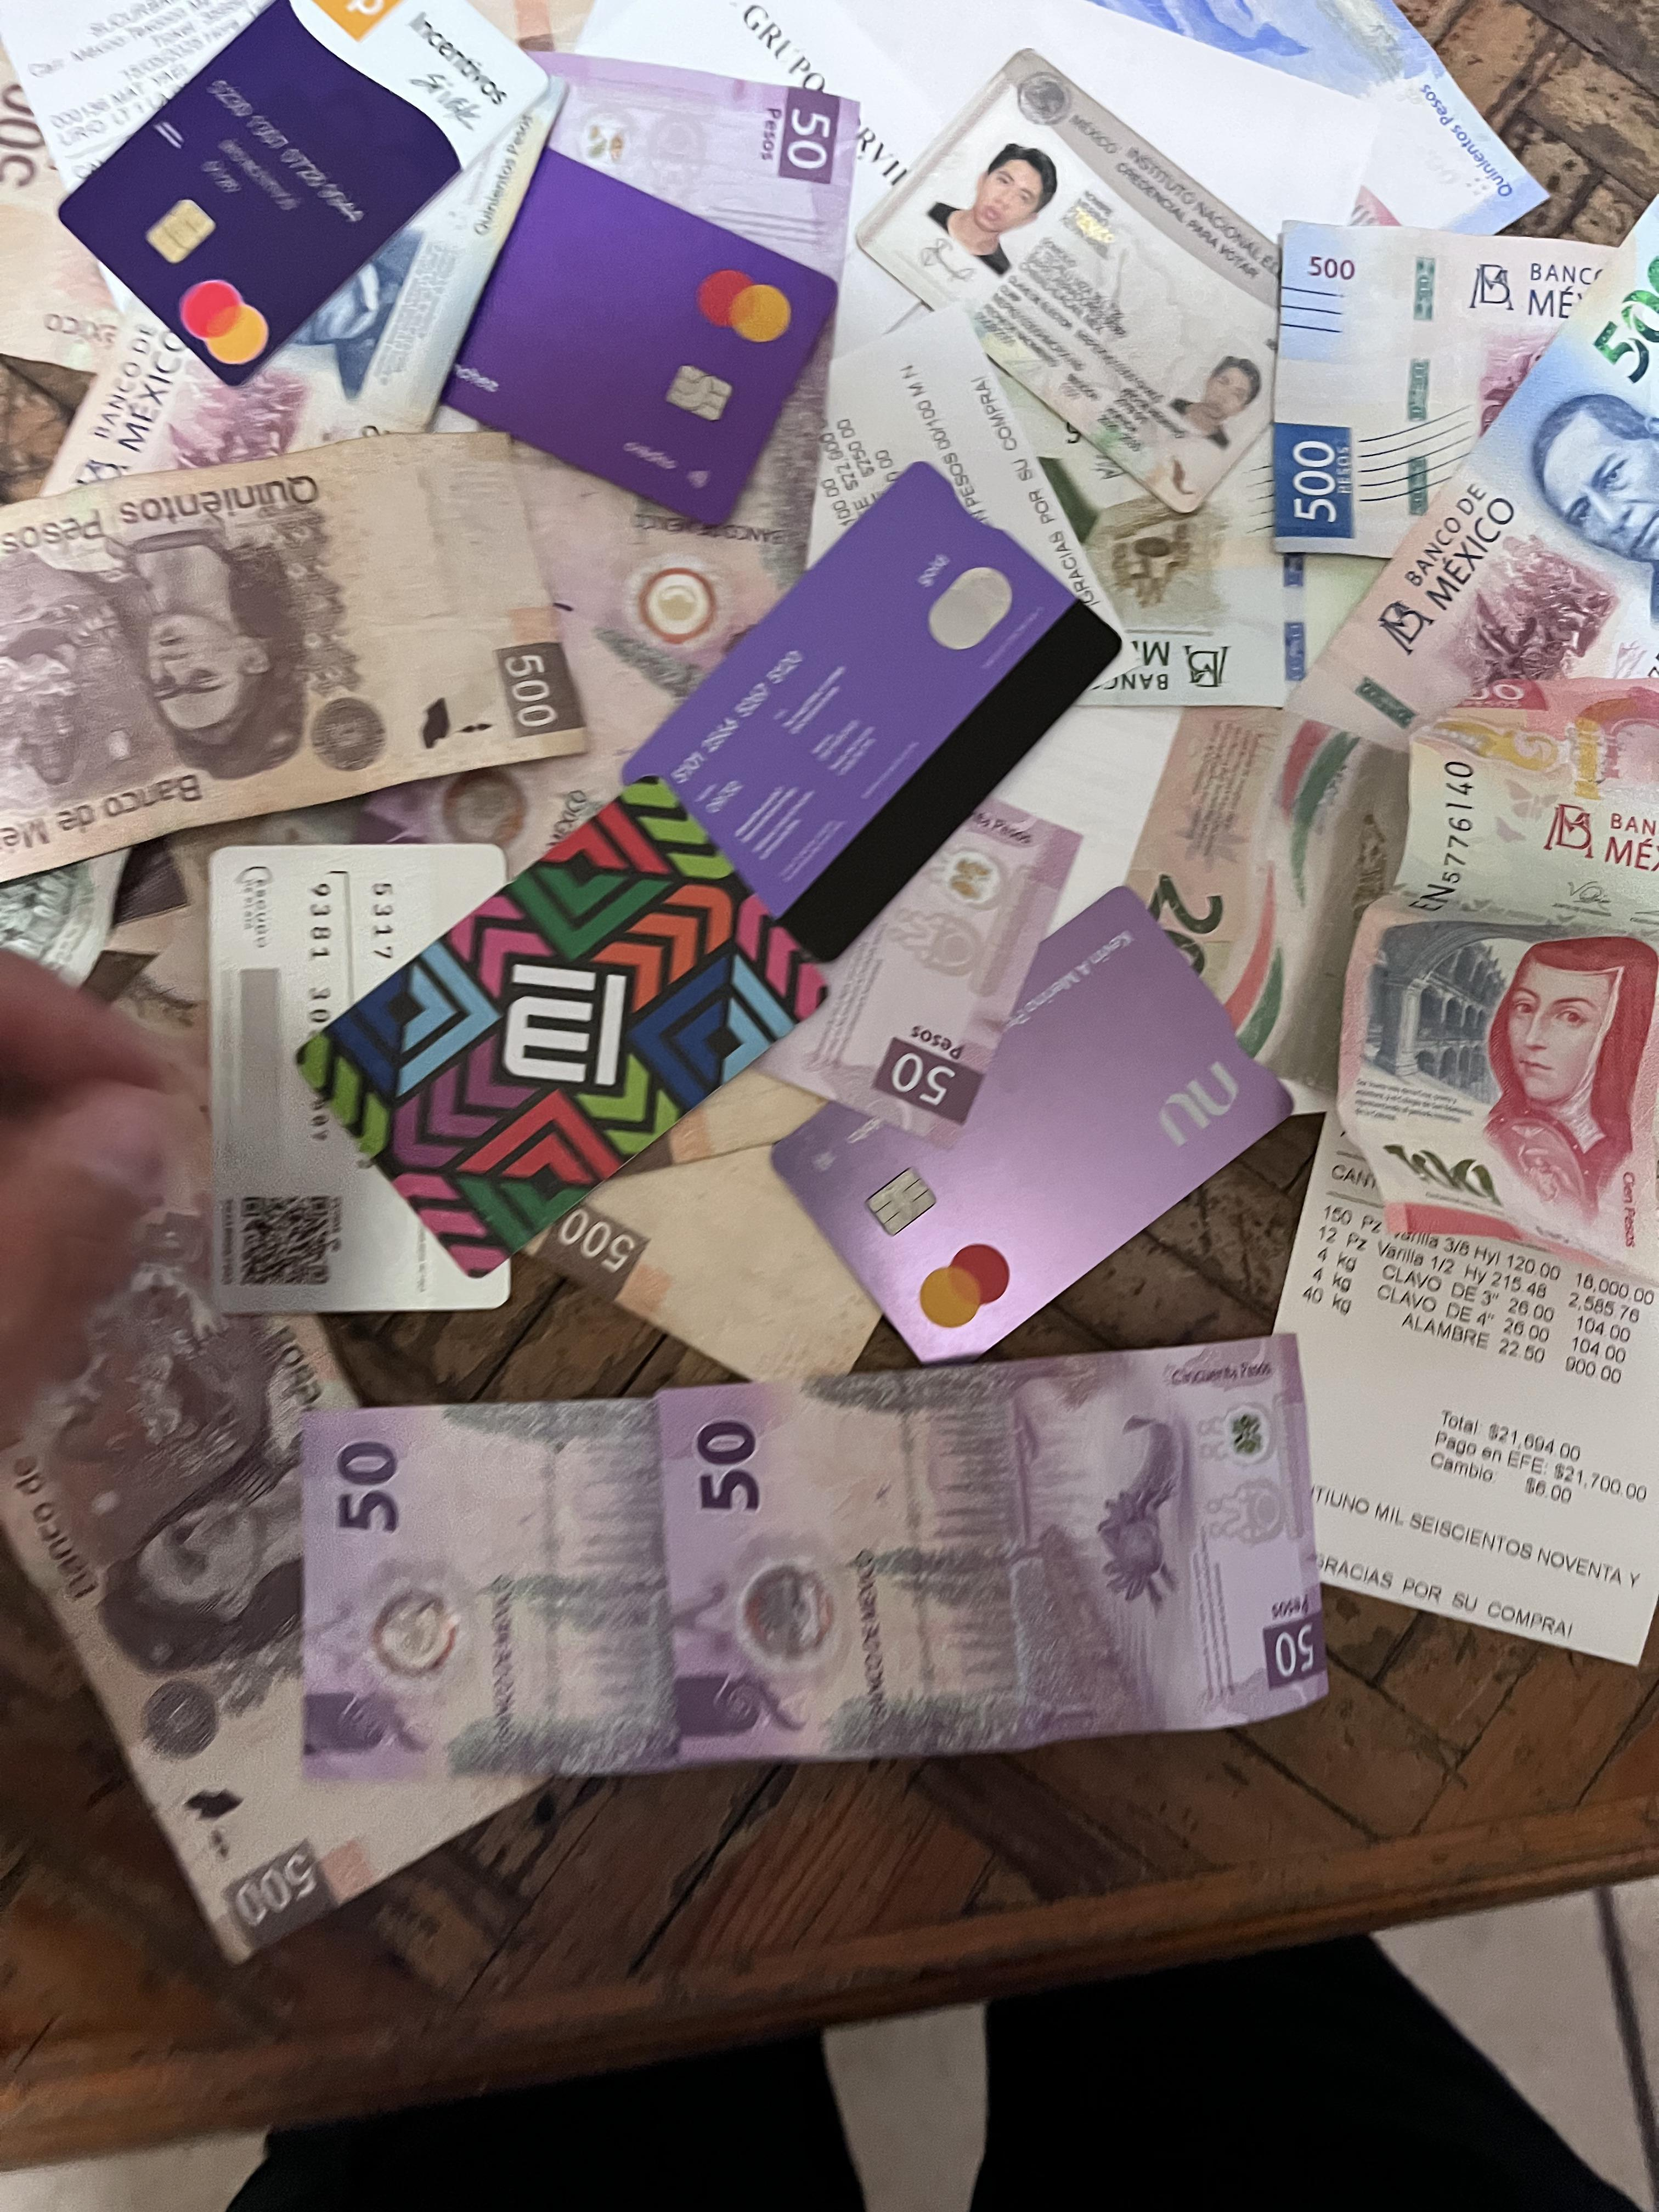100: (1358, 648, 1659, 1345)
20: (1108, 702, 1495, 1118)
50: (491, 28, 887, 705), (779, 758, 1098, 1150)
500: (0, 1052, 565, 1972), (0, 411, 545, 881), (521, 958, 938, 1421)
500 nuevo: (1281, 167, 1659, 784), (1251, 211, 1659, 590), (978, 0, 1534, 266)
